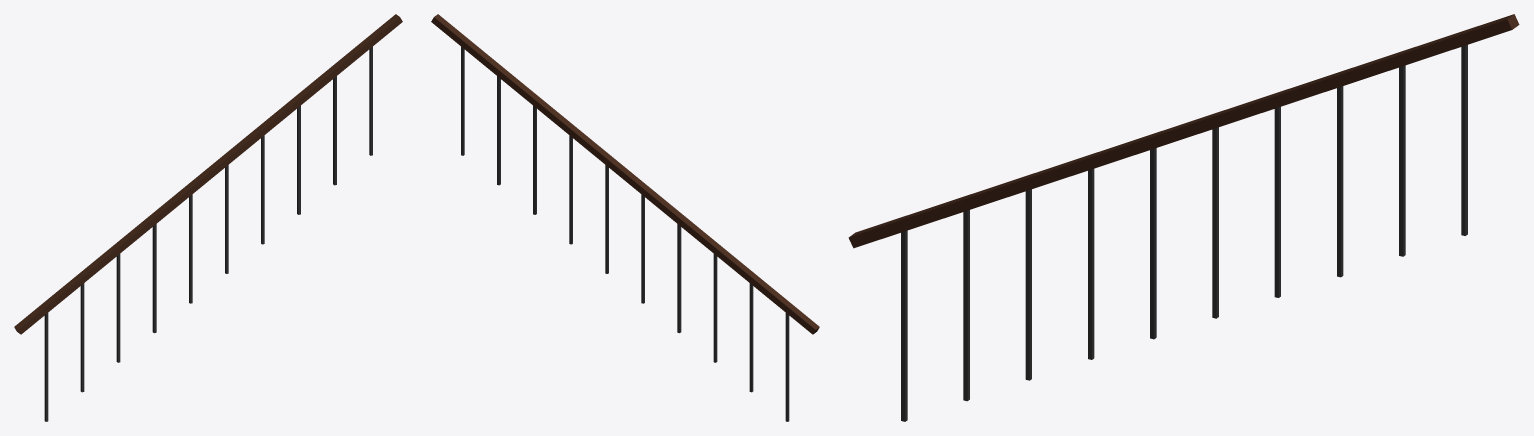
File: hosp_stairs_railing.glb
The picture shows the model from 3 angles, left to right: view 1: azimuth 30°, elevation 25°; view 2: azimuth 150°, elevation 25°; view 3: azimuth 330°, elevation 25°; orthographic projection. The views are drawn at different scales.
Parts seen in each view (by area): view 1: hosp_stairs_railing; view 2: hosp_stairs_railing; view 3: hosp_stairs_railing.
Part boxes in pixels (x1,y1,x2,y2): hosp_stairs_railing: (14, 14, 402, 421); hosp_stairs_railing: (431, 14, 819, 421); hosp_stairs_railing: (848, 14, 1519, 421).
Size of what is drawn, in the model's own units: 3.2 by 2.54 by 0.06.
